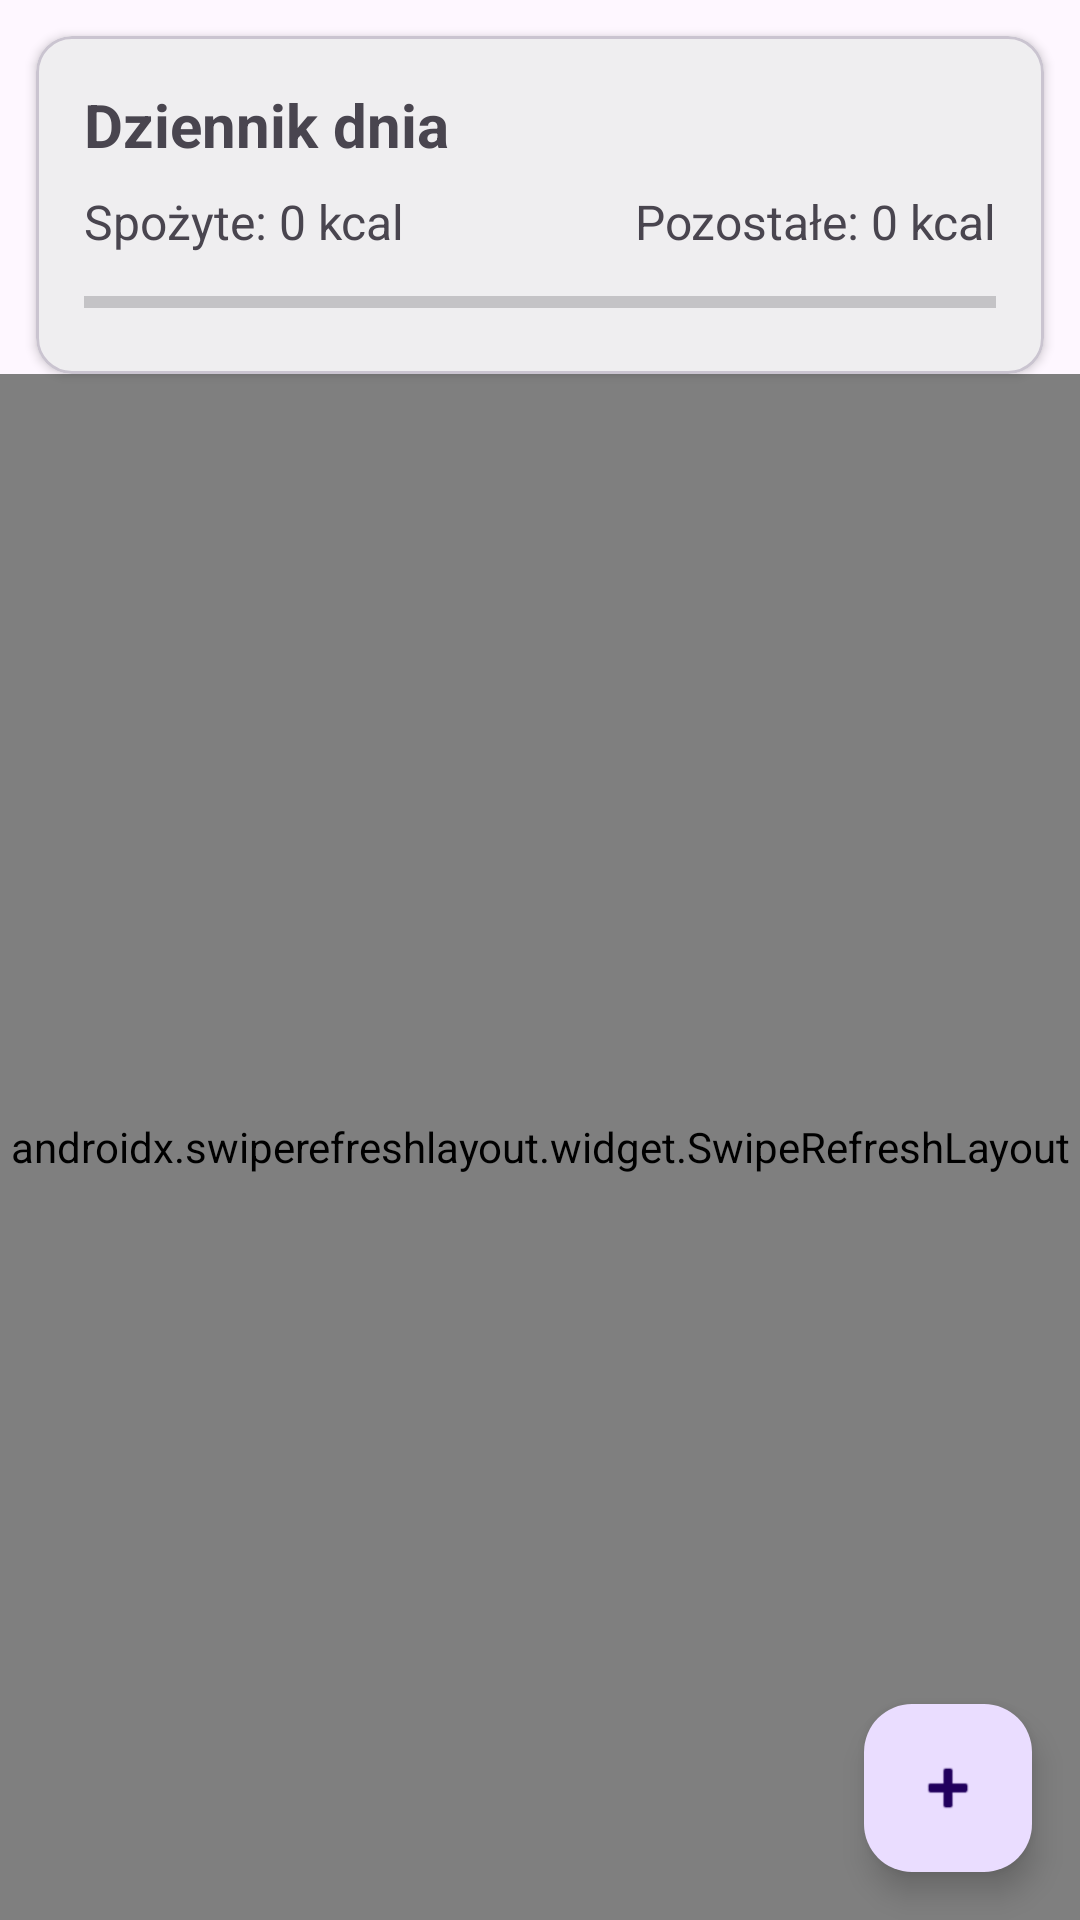

Named icons in this screenshot (1080x1920) and their bounding boxes, [x1=x1, y1=y1, x2=x2, y2=y2]:
Dodaj wpis: [x1=864, y1=1704, x2=1032, y2=1872]
